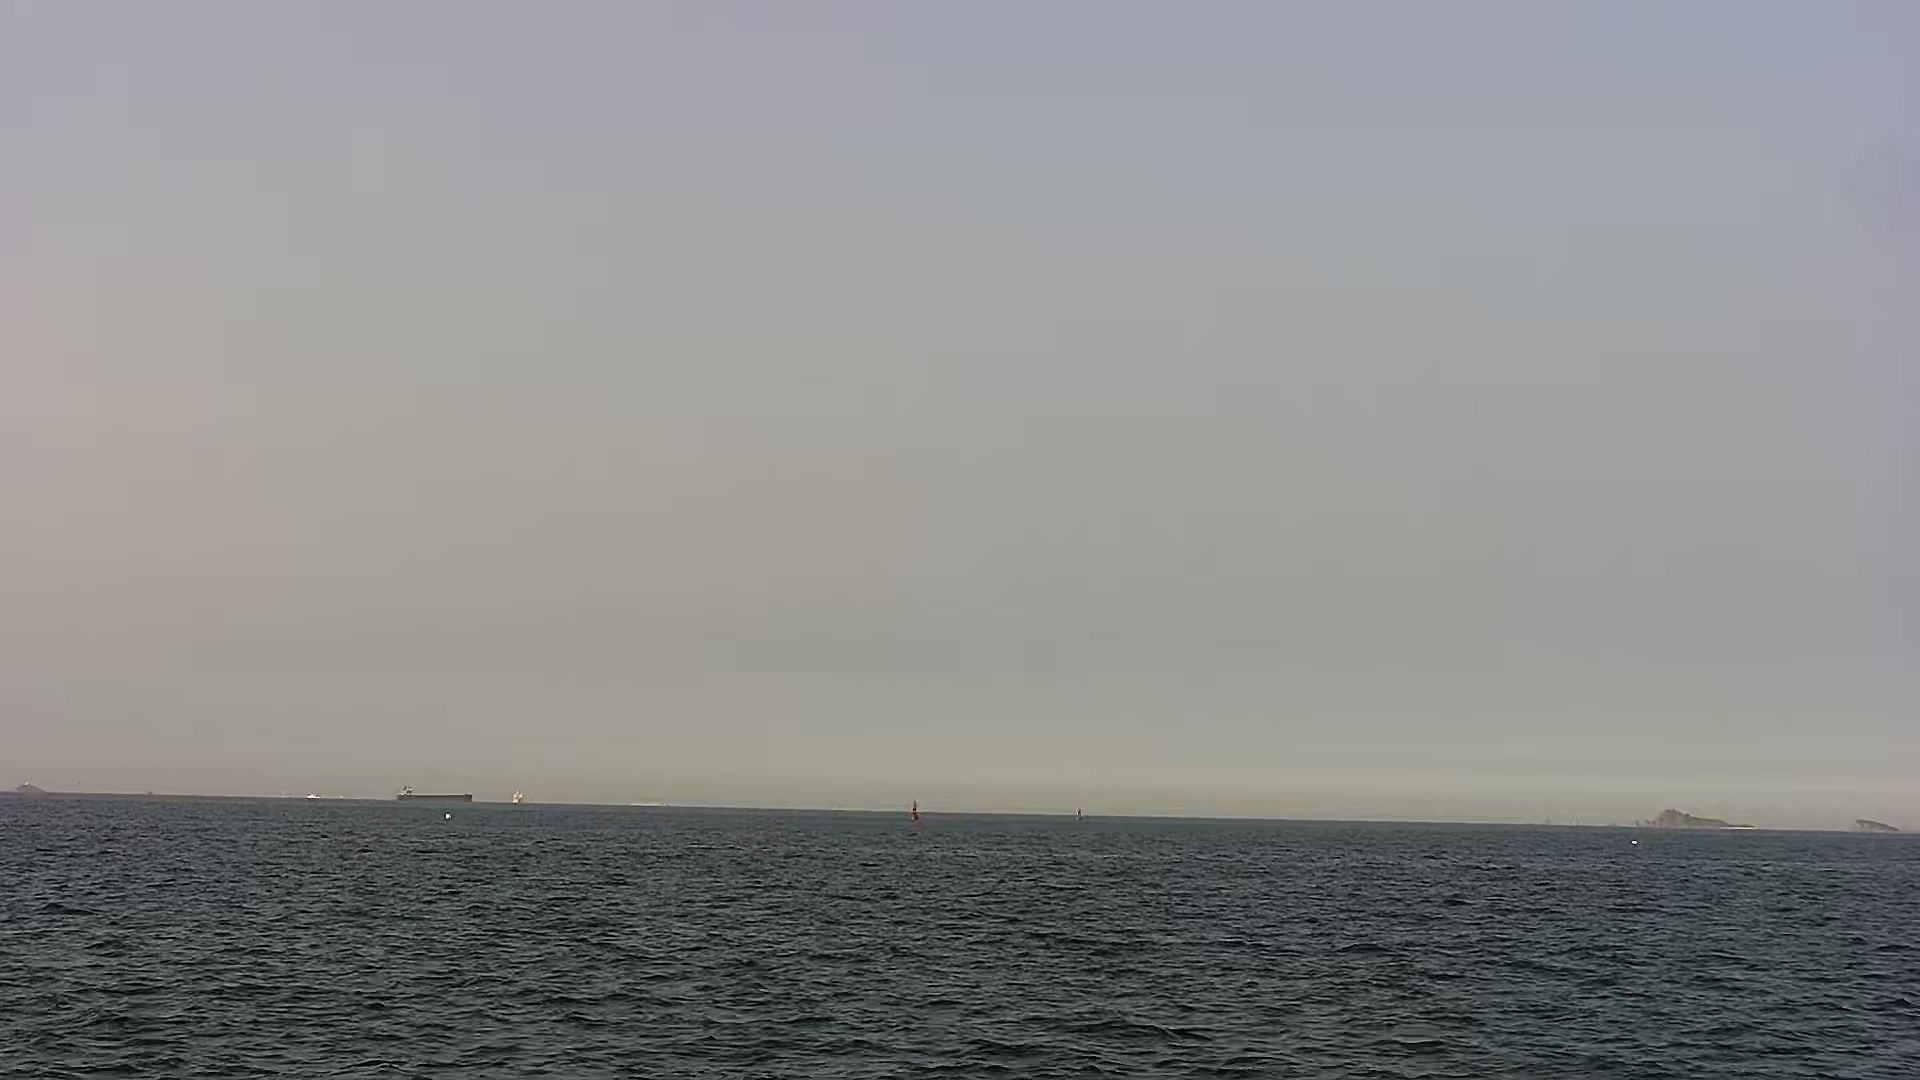platform: (382, 781, 483, 804)
rock: (1634, 791, 1758, 836)
